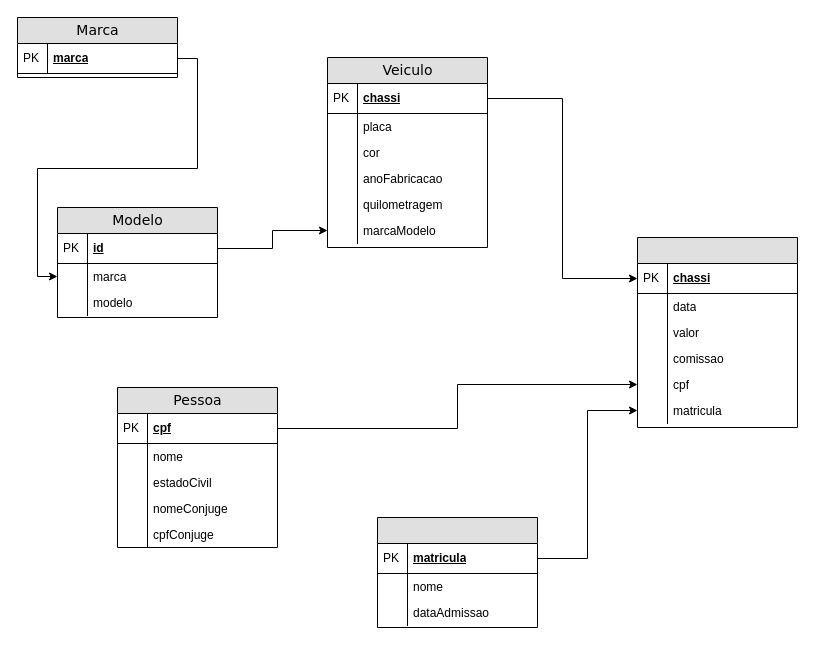
Some shapes in this 815 by 646 pixel diagram are drawn without their labels. Here are the shapes that lost their labels. From the top down, the box of each, then its label:
(636, 236, 798, 428): Venda
(376, 516, 538, 628): Corretor
